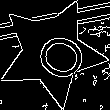O_NW: (19, 23, 84, 83)
